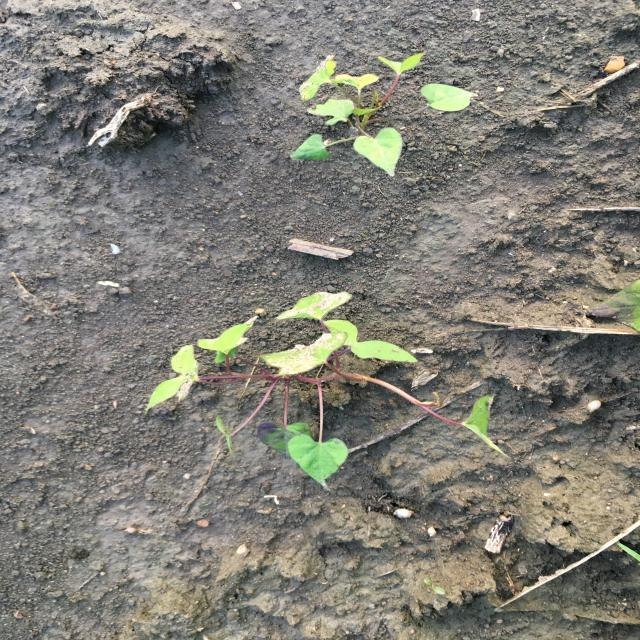MorningGlory: (141, 290, 516, 492), (287, 50, 480, 179)
